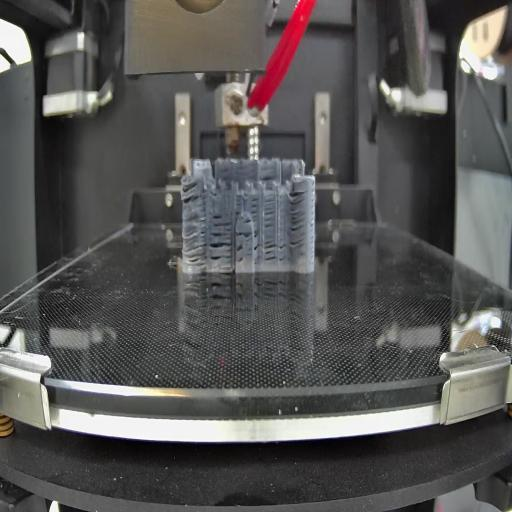cracks: (182, 214, 208, 264), (288, 190, 306, 258), (210, 221, 232, 267), (234, 230, 260, 264), (180, 179, 204, 205), (262, 196, 277, 229), (263, 236, 278, 264), (310, 182, 314, 244), (250, 196, 260, 220), (234, 192, 243, 216), (278, 242, 287, 262), (221, 169, 232, 183), (212, 212, 226, 220), (260, 176, 277, 182)
